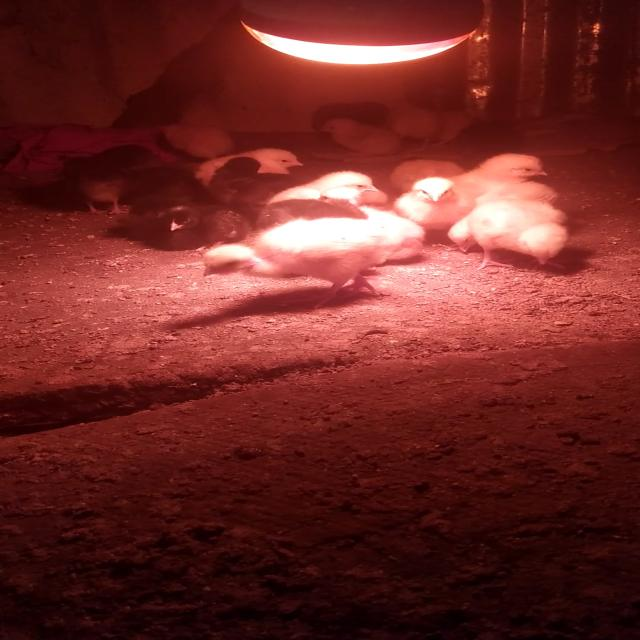chick: (202, 217, 420, 306), (462, 199, 574, 275), (56, 142, 168, 217), (210, 155, 308, 213), (140, 205, 252, 253), (465, 152, 559, 199), (308, 119, 405, 163), (393, 177, 474, 229), (265, 170, 386, 204), (196, 147, 309, 178), (162, 125, 235, 157), (383, 159, 468, 186)
